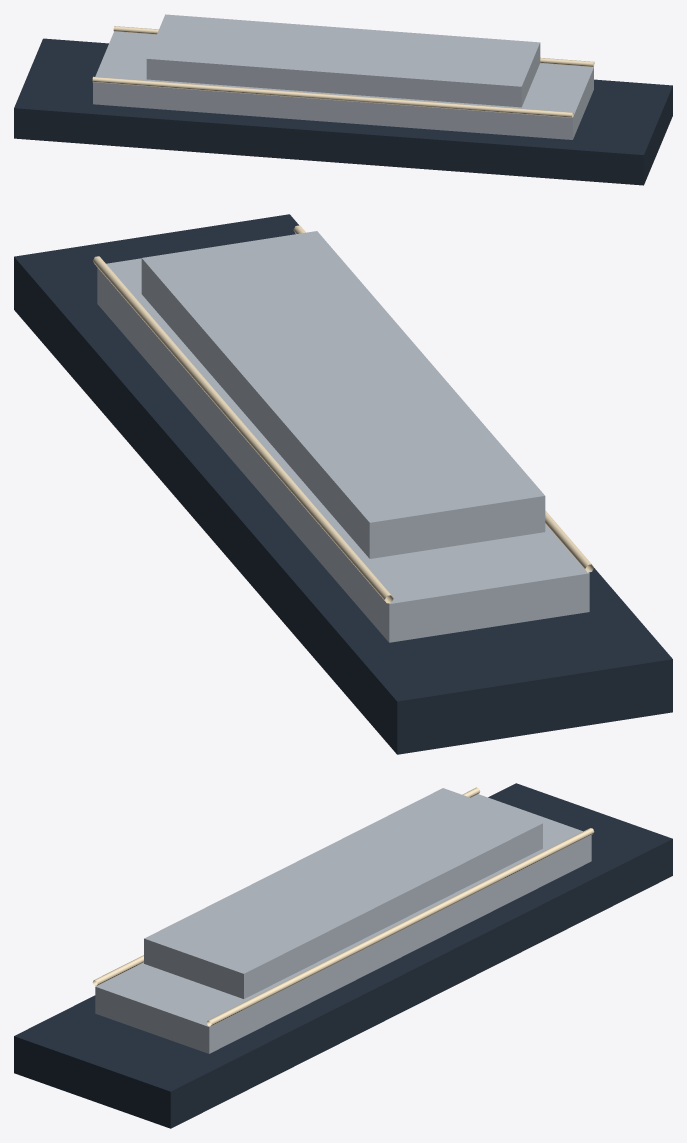
The picture shows the model from 3 angles, top to bottom: view 1: azimuth 30°, elevation 25°; view 2: azimuth 150°, elevation 25°; view 3: azimuth 270°, elevation 25°; orthographic projection. The views are drawn at different scales.
Parts seen in each view (by area): view 1: -3_1_珍珠白 · 混凝土, -3_1_深灰金属, -3_1_路灯 · 暖白; view 2: -3_1_珍珠白 · 混凝土, -3_1_深灰金属, -3_1_路灯 · 暖白; view 3: -3_1_珍珠白 · 混凝土, -3_1_深灰金属, -3_1_路灯 · 暖白.
Boxes of the visible parts, x1,y1,x2,y2 form: -3_1_珍珠白 · 混凝土: [93, 14, 593, 139]; -3_1_深灰金属: [14, 38, 672, 185]; -3_1_路灯 · 暖白: [92, 26, 594, 117]; -3_1_珍珠白 · 混凝土: [97, 231, 589, 642]; -3_1_深灰金属: [14, 214, 672, 754]; -3_1_路灯 · 暖白: [93, 225, 593, 603]; -3_1_珍珠白 · 混凝土: [95, 788, 591, 1053]; -3_1_深灰金属: [14, 783, 672, 1128]; -3_1_路灯 · 暖白: [92, 787, 594, 1026].
Size of the model in its own units: 39.24 by 5.55 by 35.42.
